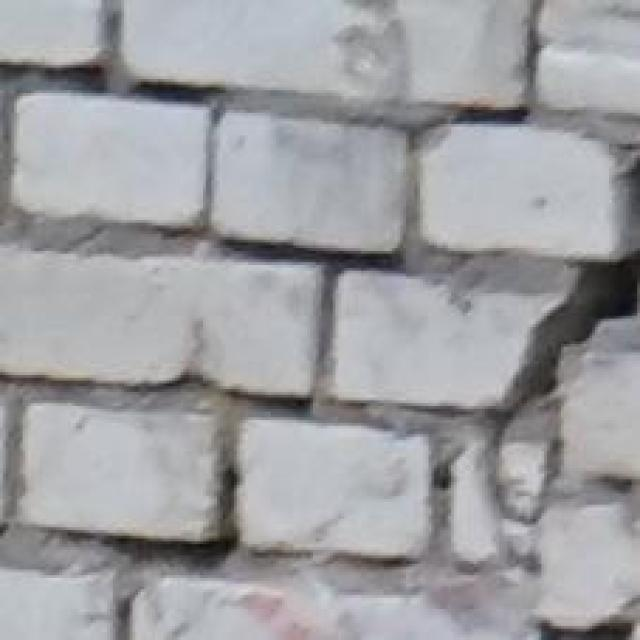Crack: (296, 85, 640, 593)
